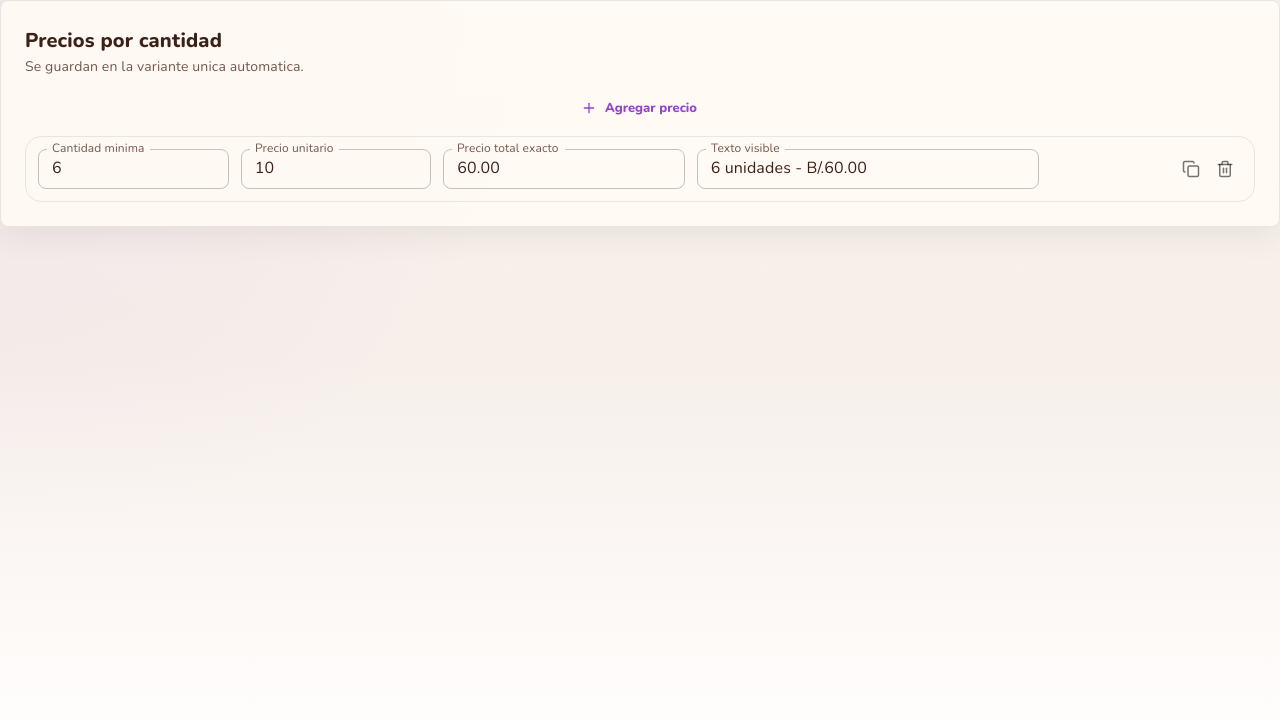
Scenario: AdminProductFormPage render isolation › autofills tier totals and labels while allowing manual edits
Step 1. Replace the text in the field labelled "Precio total exacto" with "61.25" → (564, 169), box [443,149,685,189]
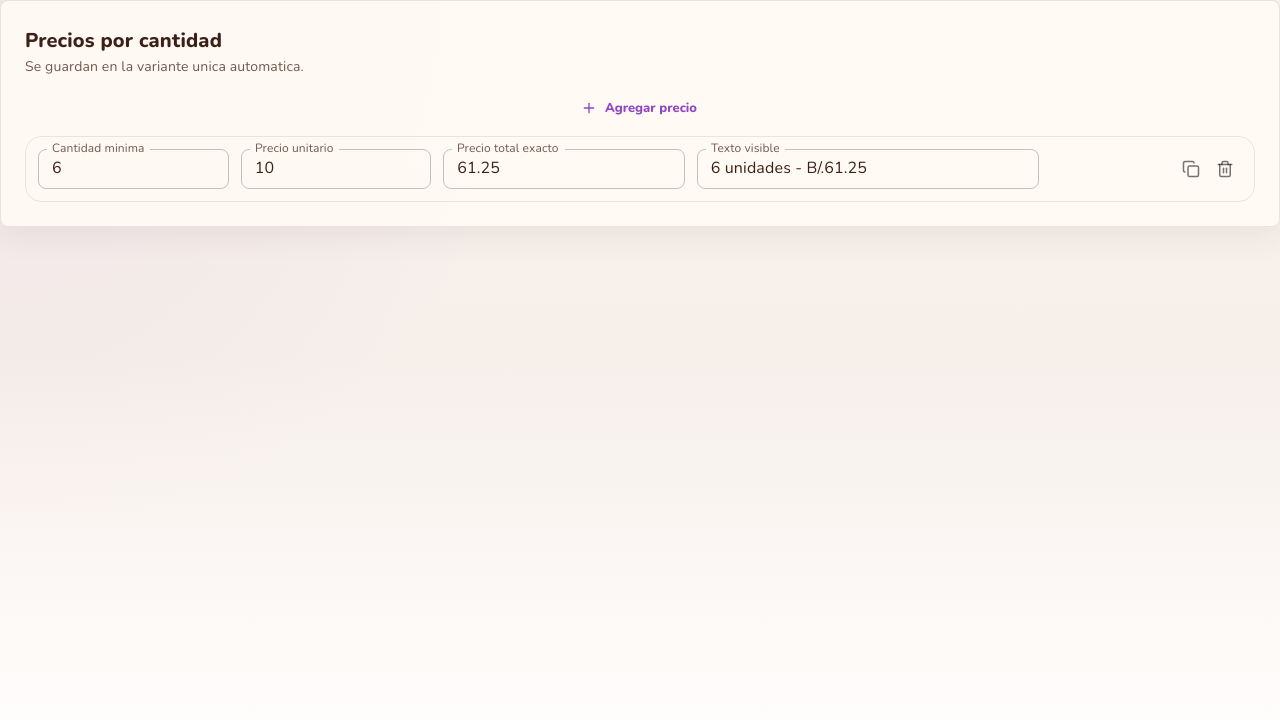
Expected: the field labelled "Texto visible" holds "6 unidades - B/.61.25", [697,149,1039,189]
Step 2. Replace the text in the field labelled "Precio unitario" with "7.67" → (336, 169), box [241,149,431,189]
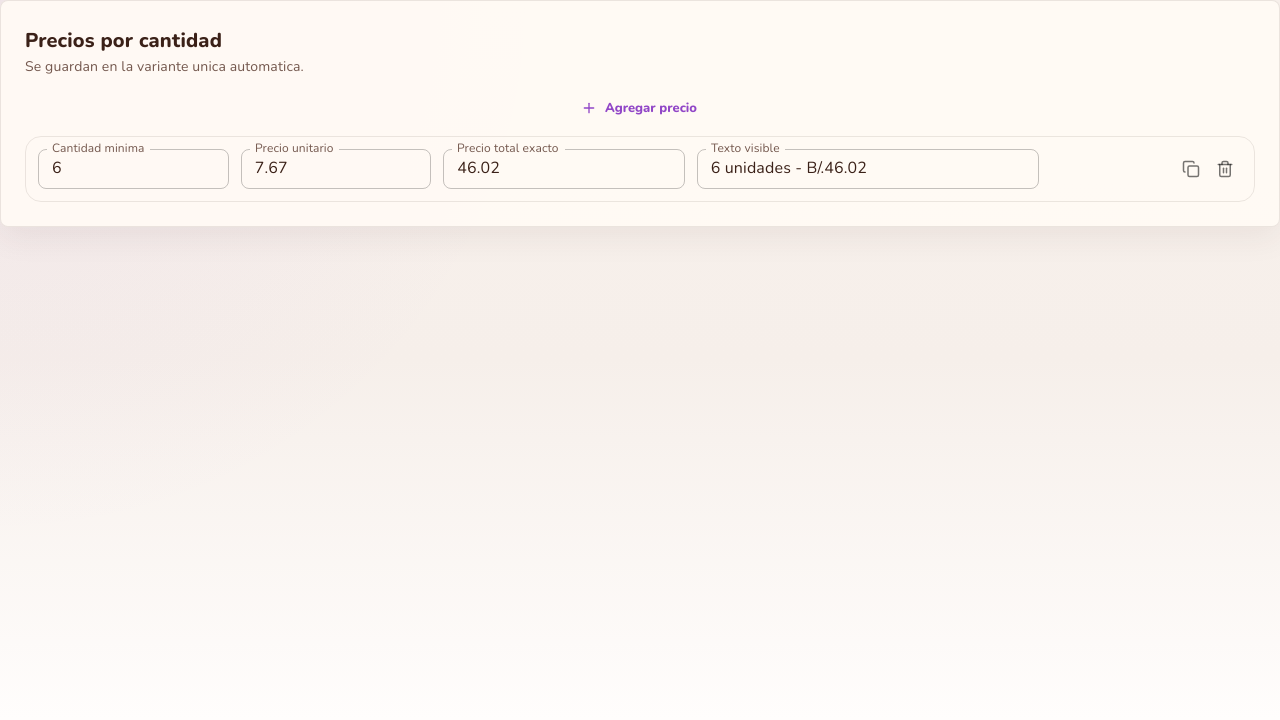
Expected: the field labelled "Precio total exacto" holds "46.02", [443,149,685,189]
Expected: the field labelled "Texto visible" holds "6 unidades - B/.46.02"
Step 3. Replace the text in the field labelled "Texto visible" with "Paquete especial" → (868, 169), box [697,149,1039,189]
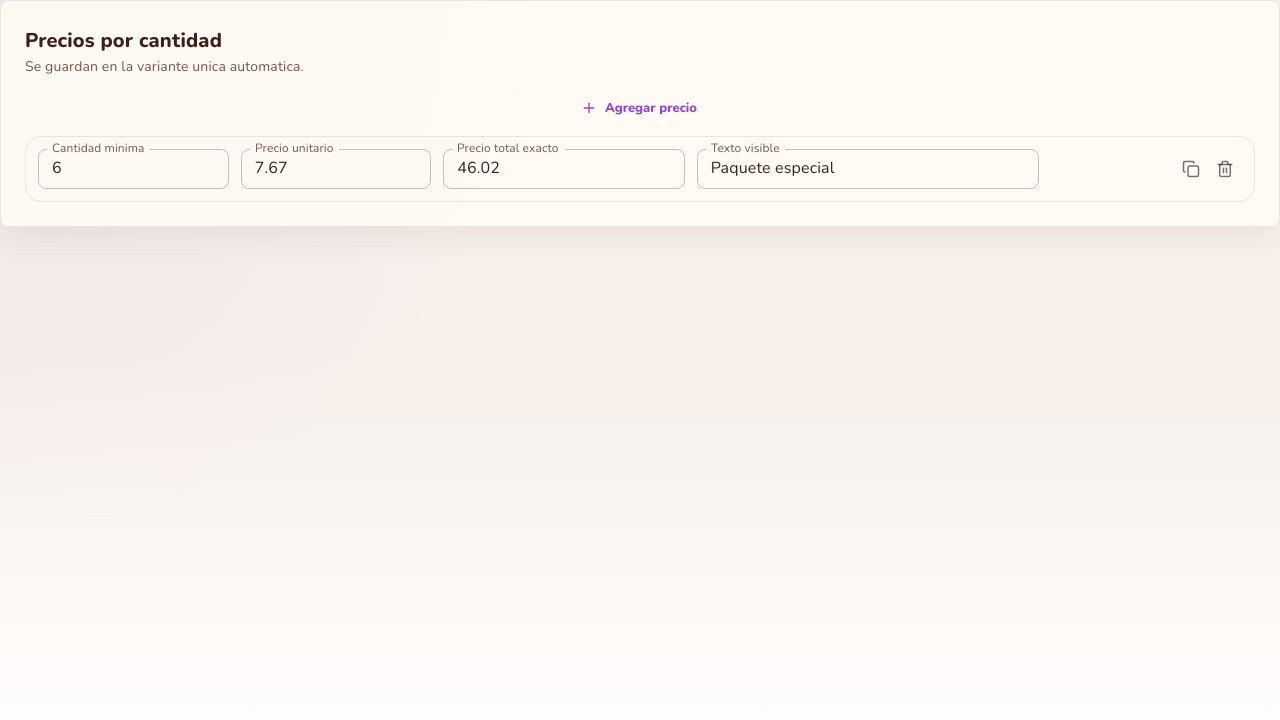
Step 4. Replace the text in the field labelled "Precio unitario" with "12.50" → (336, 169), box [241,149,431,189]
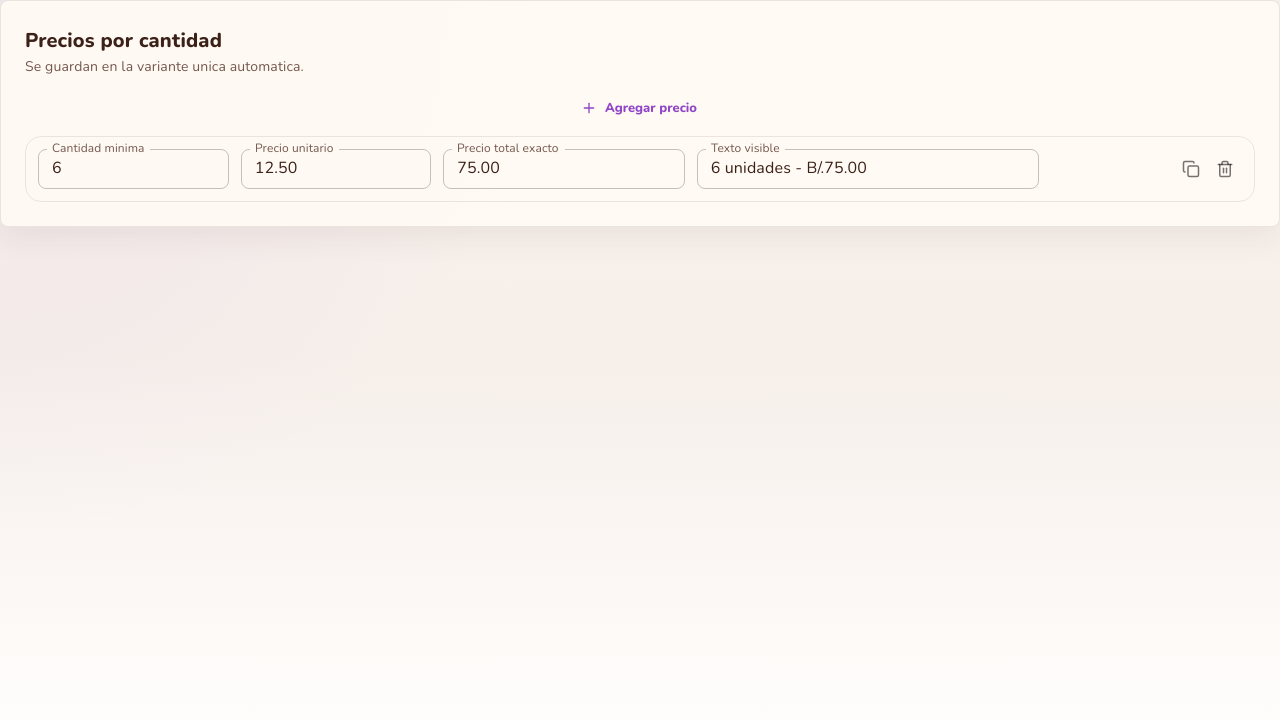
Expected: the field labelled "Precio total exacto" holds "75.00", [443,149,685,189]
Expected: the field labelled "Texto visible" holds "6 unidades - B/.75.00", [697,149,1039,189]
